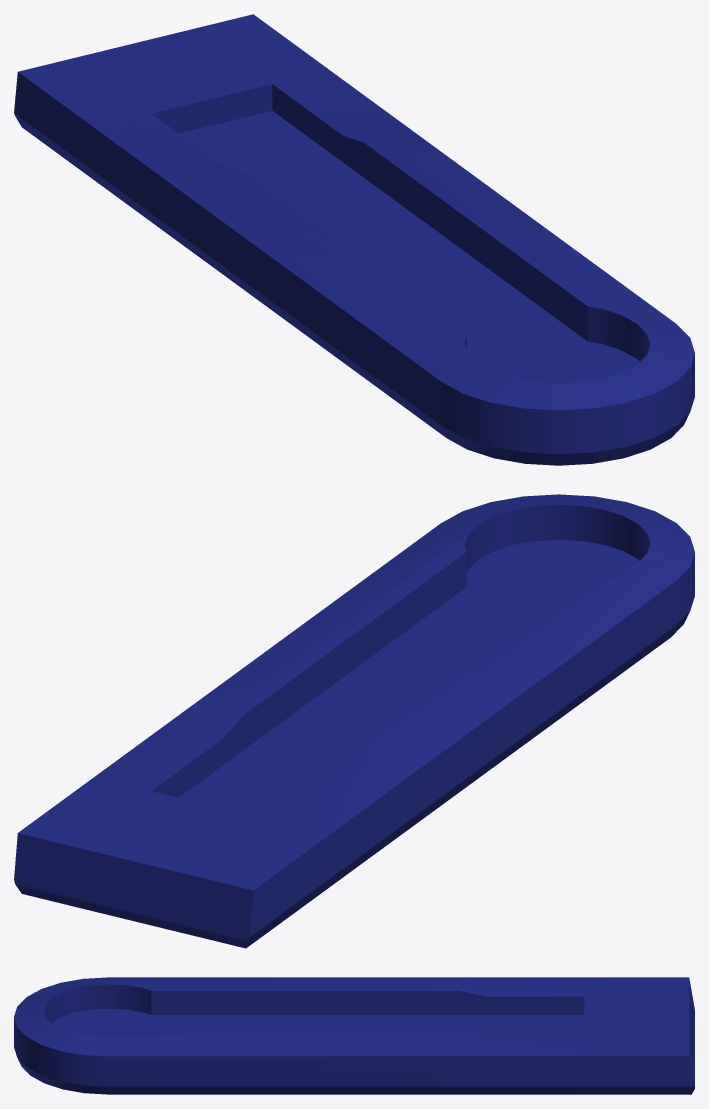
Rendered from original-7.obj.
The picture shows the model from 3 angles, top to bottom: view 1: azimuth 30°, elevation 25°; view 2: azimuth 150°, elevation 25°; view 3: azimuth 270°, elevation 25°; orthographic projection. The views are drawn at different scales.
Parts seen in each view (by area): view 1: Difference1/mesh33/mesh33-geometry#mesh33-geometry; view 2: Difference1/mesh33/mesh33-geometry#mesh33-geometry; view 3: Difference1/mesh33/mesh33-geometry#mesh33-geometry.
Part boxes in pixels (x1,y1,x2,y2): Difference1/mesh33/mesh33-geometry#mesh33-geometry: (14, 14, 694, 465); Difference1/mesh33/mesh33-geometry#mesh33-geometry: (14, 494, 694, 948); Difference1/mesh33/mesh33-geometry#mesh33-geometry: (14, 977, 694, 1094).
Bounding box in the file's own units: 0.5107 × 0.138 × 1.86.
